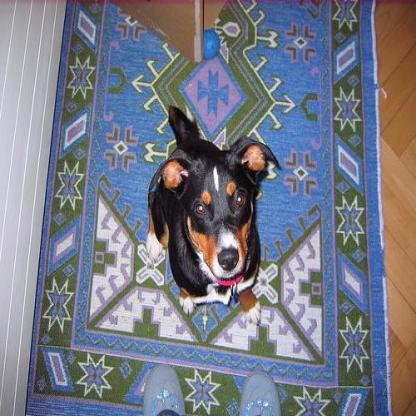Appenzeller: (145, 103, 278, 325)
